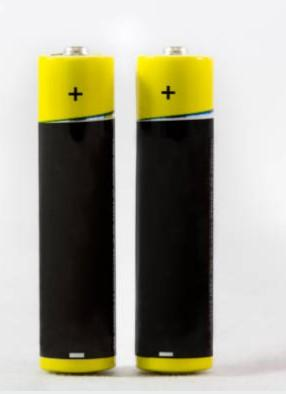Battery: (134, 44, 214, 377), (38, 45, 117, 376)
